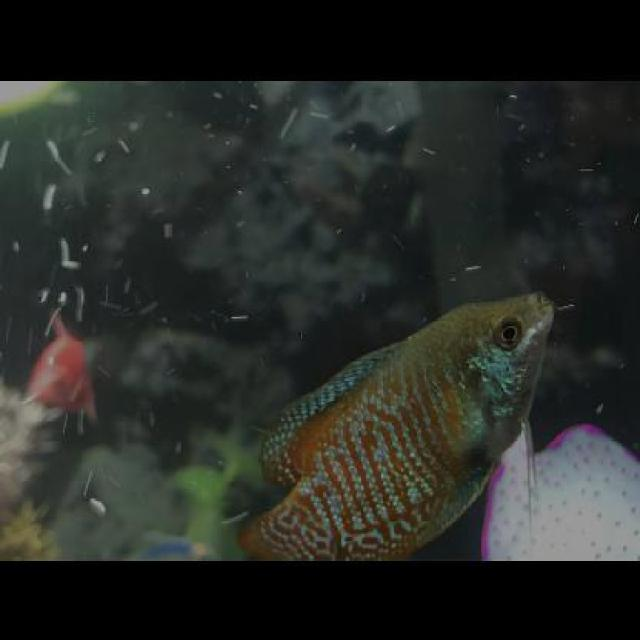Gourami: (232, 287, 559, 559)
